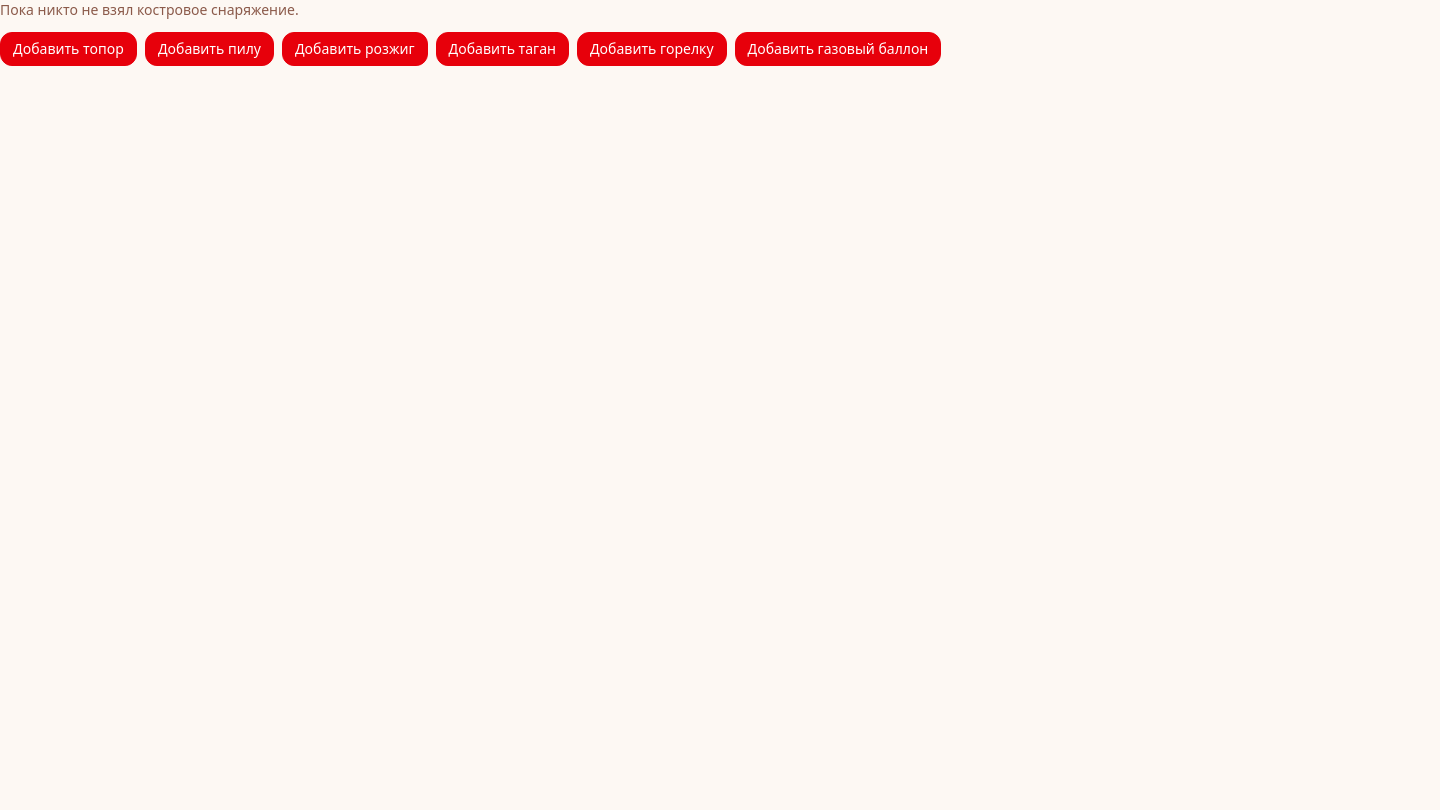
Test: секция «Костровое» › нет подходящей вещи — подсказка, а не пустой список
Click the button with test id "route-cooking-add-axe". click: click(68, 49)
box: [0,32,137,66]
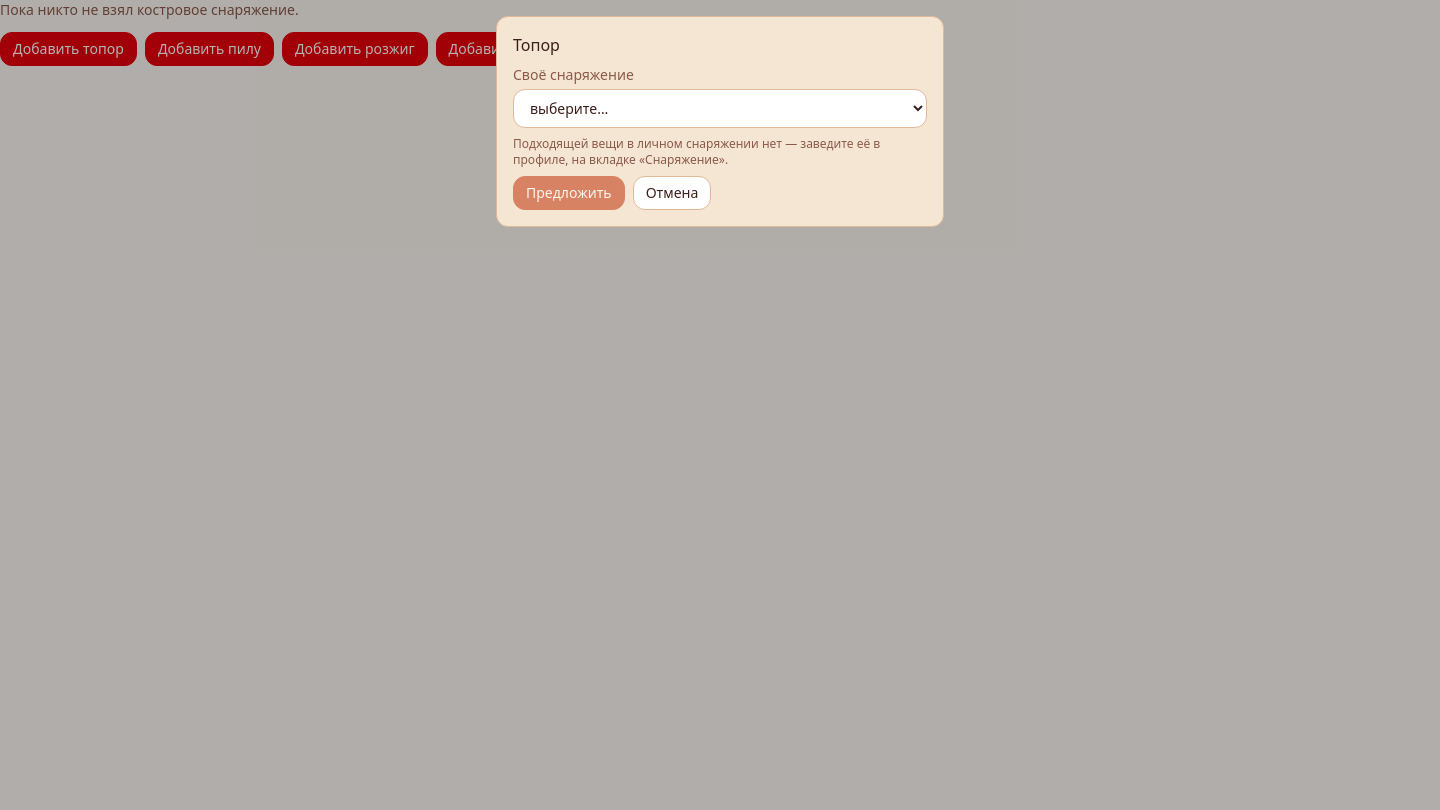
Check: the text with test id "route-cooking-no-gear" shows "Подходящей вещи в личном снаряжении нет", box [513,135,880,168]
